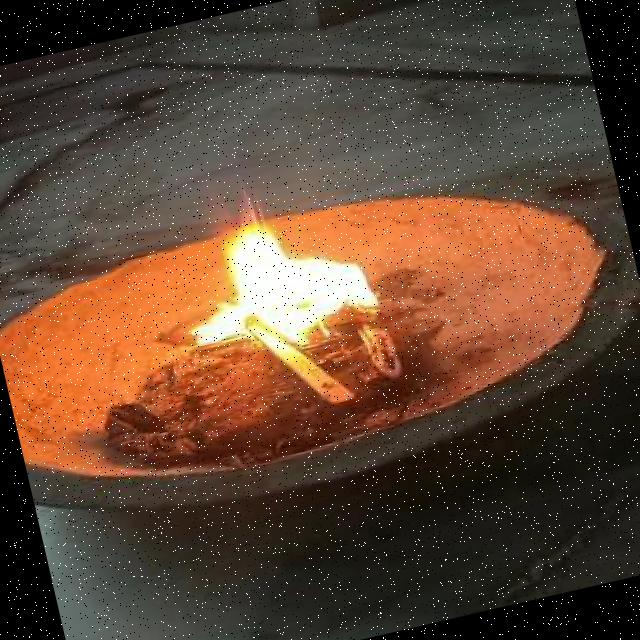fire: (180, 198, 397, 356)
